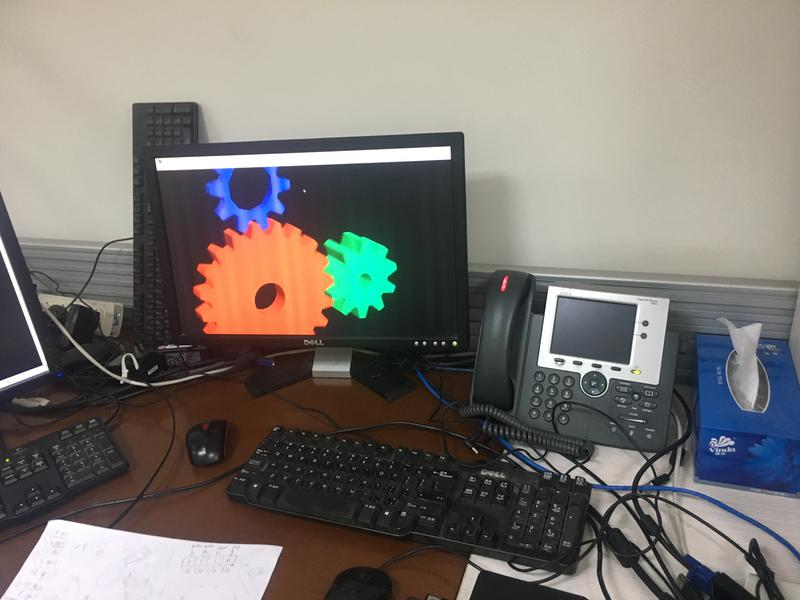glxgears_pass: (151, 158, 404, 337)
